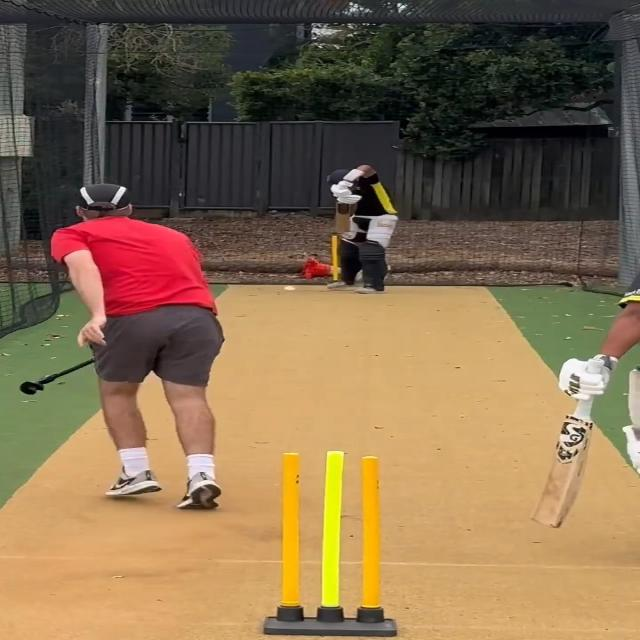ball: (283, 284, 298, 292)
stump: (262, 449, 394, 637)
